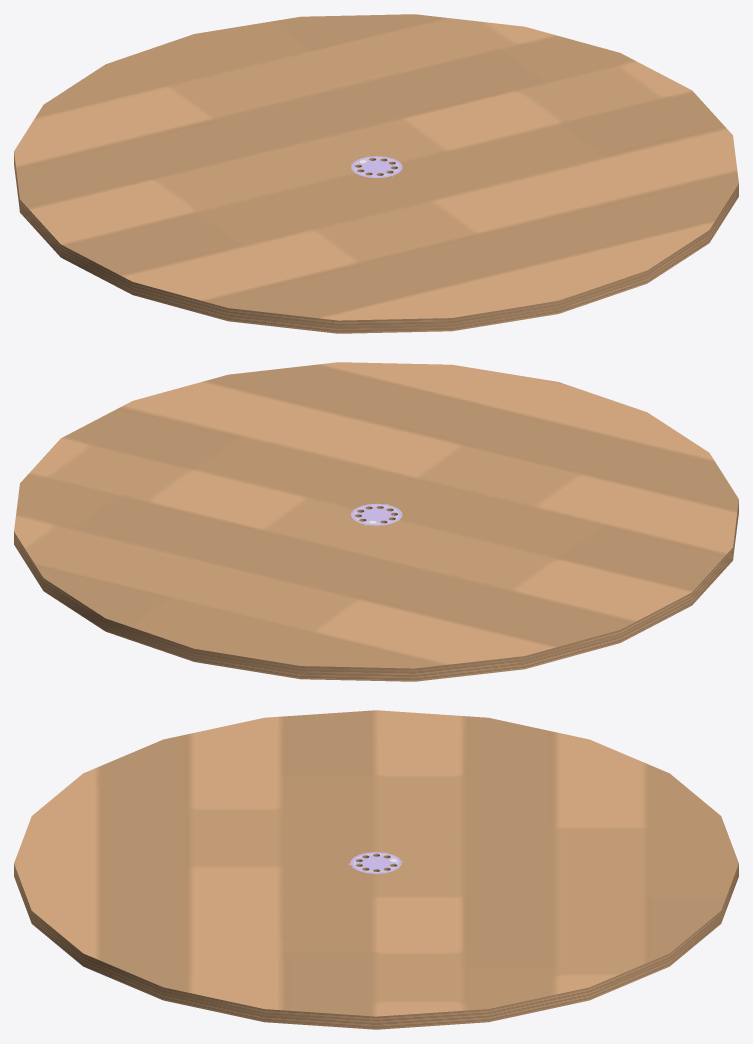
Rendered from DEFAULT_GROUND_EXPORT.fbx.
The picture shows the model from 3 angles, top to bottom: view 1: azimuth 30°, elevation 25°; view 2: azimuth 150°, elevation 25°; view 3: azimuth 270°, elevation 25°; orthographic projection.
Parts seen in each view (by area): view 1: DEFAULT_GROUND_Cloner, housepack_carpet_2_Cloner_1; view 2: DEFAULT_GROUND_Cloner, housepack_carpet_2_Cloner_1; view 3: DEFAULT_GROUND_Cloner, housepack_carpet_2_Cloner_1.
Boxes of the visible parts, x1,y1,x2,y2 form: DEFAULT_GROUND_Cloner: (14,14,738,333); housepack_carpet_2_Cloner_1: (351,156,402,177); DEFAULT_GROUND_Cloner: (14,362,738,681); housepack_carpet_2_Cloner_1: (351,503,402,525); DEFAULT_GROUND_Cloner: (14,710,738,1029); housepack_carpet_2_Cloner_1: (350,852,401,873).
Bounding box in the file's own units: 10000 × 208 × 10000.
